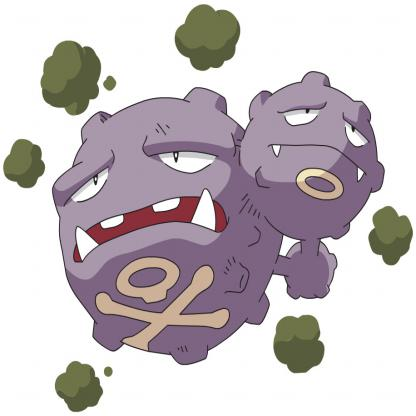Weezing: (12, 28, 415, 380)
